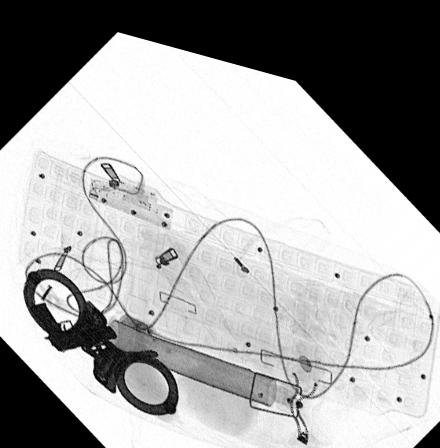Gun: (28, 298, 116, 346)
HandCuffs: (21, 261, 180, 407)
